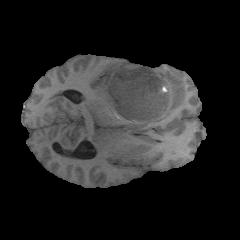glioma: (103, 65, 185, 124)
